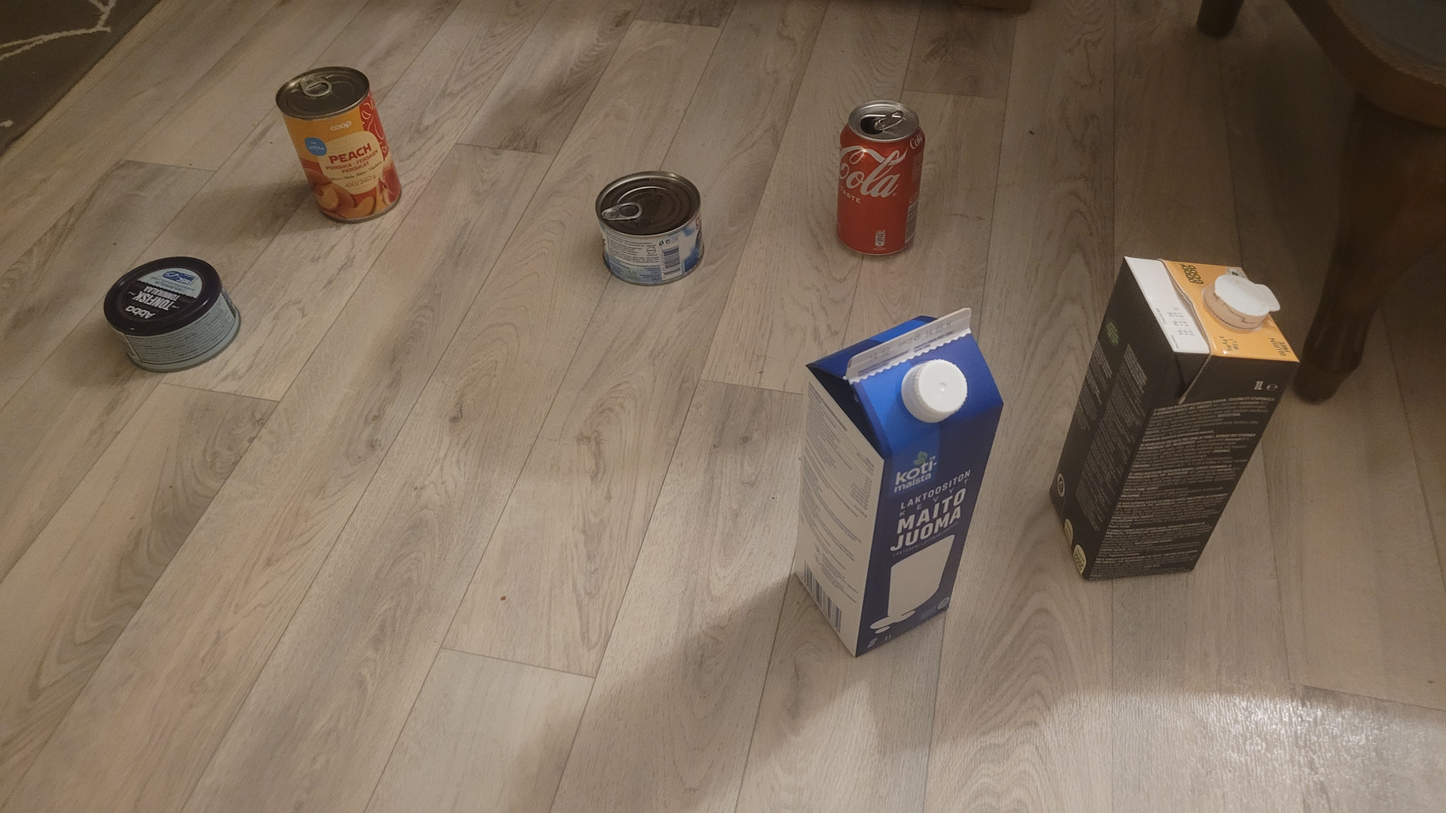Dryckeskartong: (1049, 256, 1300, 582), (795, 306, 1004, 658)
Konservburk: (276, 65, 403, 224), (102, 256, 243, 372), (594, 171, 706, 288)
Pantburk: (837, 102, 927, 257)
